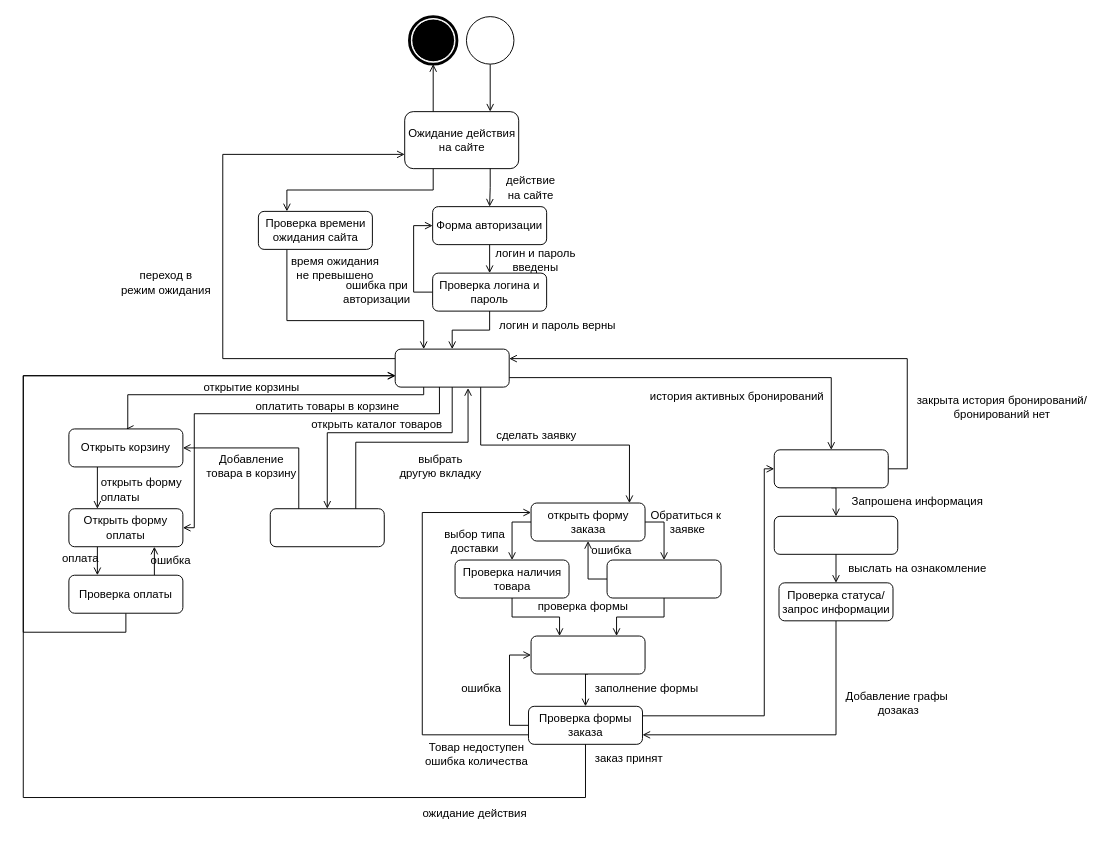
This 1113x845 diagram has some shape labels left out. The shapes that lost their labels are listed below. From the top down, each one's centre as x and y in pixels, then its label:
the point at 451,367: Ожидание выбора пользователя
the point at 830,468: Оформить дозаказ
the point at 326,527: Предоставить каталог
the point at 835,534: Создание запроса
the point at 663,578: Проверка заполненности полей
the point at 587,654: Форма заполнена корректно
